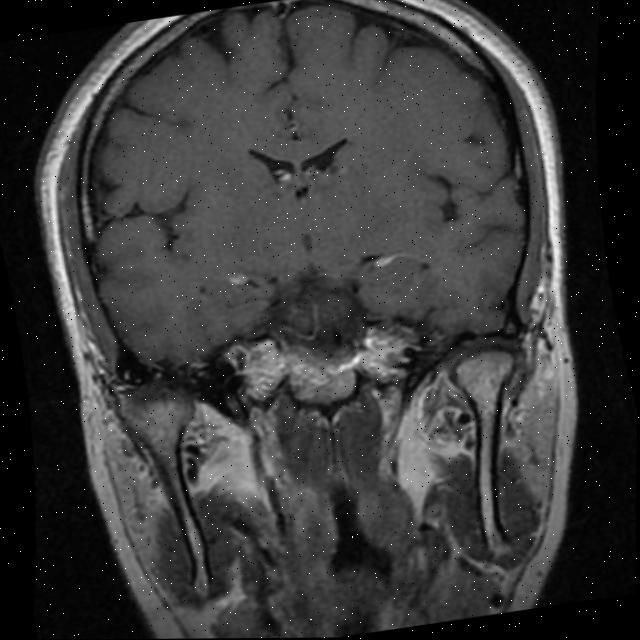Pituitary: (284, 336, 361, 407)
